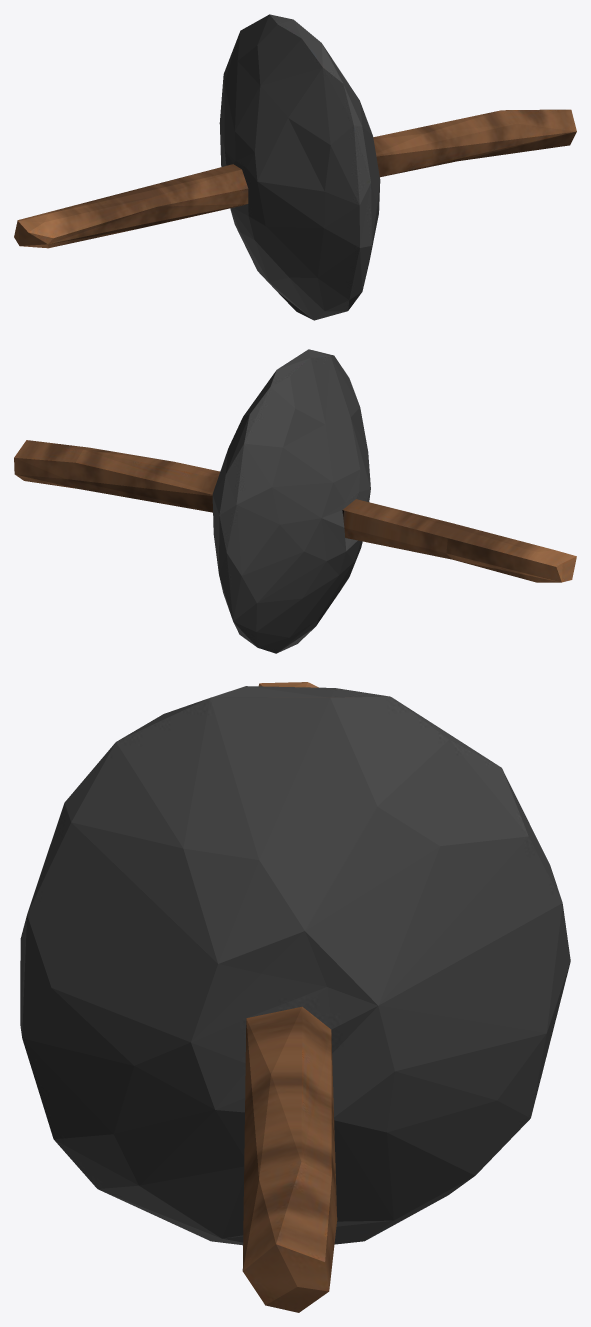
The model's file is Yakyeon_handle.fbx.
3 views of the same model, one above another, from view 1: azimuth 30°, elevation 25°; view 2: azimuth 150°, elevation 25°; view 3: azimuth 270°, elevation 25° (orthographic). The views are drawn at different scales.
Visible parts, largest first — view 1: yakyeon_handle_1; view 2: yakyeon_handle_1; view 3: yakyeon_handle_1.
Part boxes in pixels (x1=…): yakyeon_handle_1: x1=14, y1=14, x2=576, y2=320; yakyeon_handle_1: x1=14, y1=349, x2=576, y2=653; yakyeon_handle_1: x1=20, y1=682, x2=570, y2=1312.
Bounding box in the file's own units: 18.64 × 9.09 × 8.08.
1 material, 1 textured.
